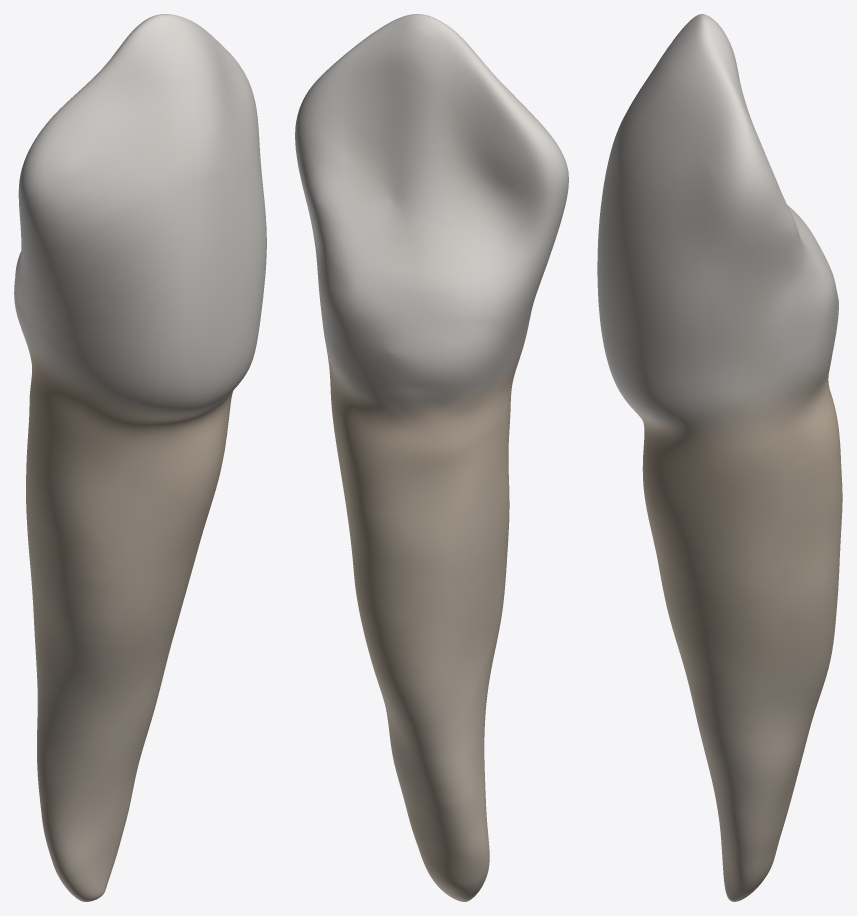
3 views of the same model, side by side, from view 1: azimuth 30°, elevation 25°; view 2: azimuth 150°, elevation 25°; view 3: azimuth 270°, elevation 25° (orthographic). The views are drawn at different scales.
Visible parts, largest first — view 1: diente-83; view 2: diente-83; view 3: diente-83.
Boxes of the visible parts, <box> form: diente-83: <box>14,14,266,901</box>; diente-83: <box>295,14,568,901</box>; diente-83: <box>597,14,842,901</box>.
Size of the model in its own units: 0.00519 by 0.0175 by 0.00428.
